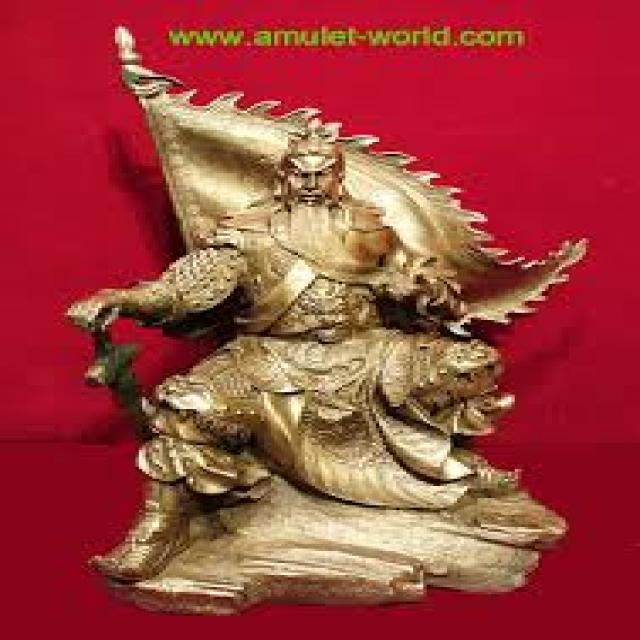Guan Yu: (117, 100, 464, 495)
